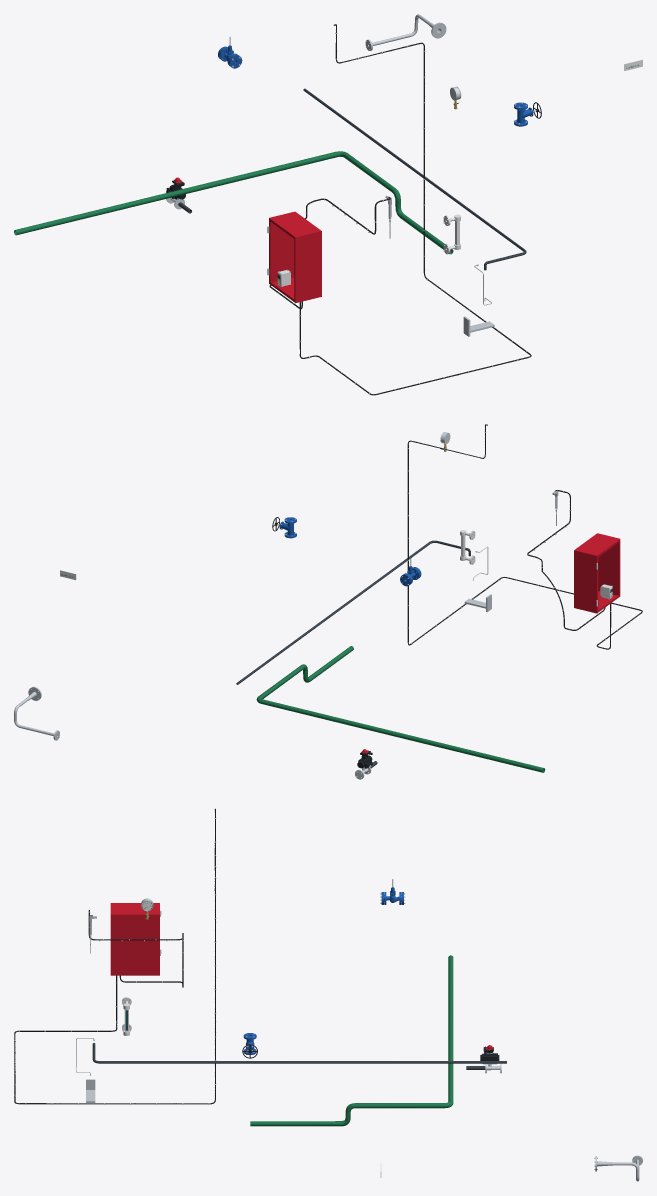
File: s4000-7-CDQTcjkS.glb
3 views of the same model, one above another, from view 1: azimuth 30°, elevation 25°; view 2: azimuth 150°, elevation 25°; view 3: azimuth 270°, elevation 25° (orthographic). The views are drawn at different scales.
Visible parts, largest first — view 1: control_cabinet / control_cabinet_0.npz, suction_common / green, gpz_drive_cable / black, tds_common / dark, fv_to_trap_gap / steel; view 2: control_cabinet / control_cabinet_0.npz, suction_common / green, gpz_drive_cable / black, tds_common / dark; view 3: control_cabinet / control_cabinet_0.npz, suction_common / green, tds_common / dark, gpz_drive_cable / black.
Part boxes in pixels (box(x1,y1,x2,y2)): control_cabinet / control_cabinet_0.npz: box(267, 211, 321, 303); suction_common / green: box(14, 151, 453, 254); gpz_drive_cable / black: box(299, 24, 531, 395); tds_common / dark: box(303, 88, 526, 270); fv_to_trap_gap / steel: box(365, 14, 446, 50); control_cabinet / control_cabinet_0.npz: box(574, 533, 620, 613); suction_common / green: box(256, 646, 545, 772); gpz_drive_cable / black: box(407, 424, 642, 649); tds_common / dark: box(236, 540, 470, 684); control_cabinet / control_cabinet_0.npz: box(110, 903, 161, 975); suction_common / green: box(250, 955, 453, 1126); tds_common / dark: box(92, 1043, 506, 1063); gpz_drive_cable / black: box(14, 808, 215, 1104).
Bounding box in the file's own units: 6.76 × 3.17 × 6.74.
